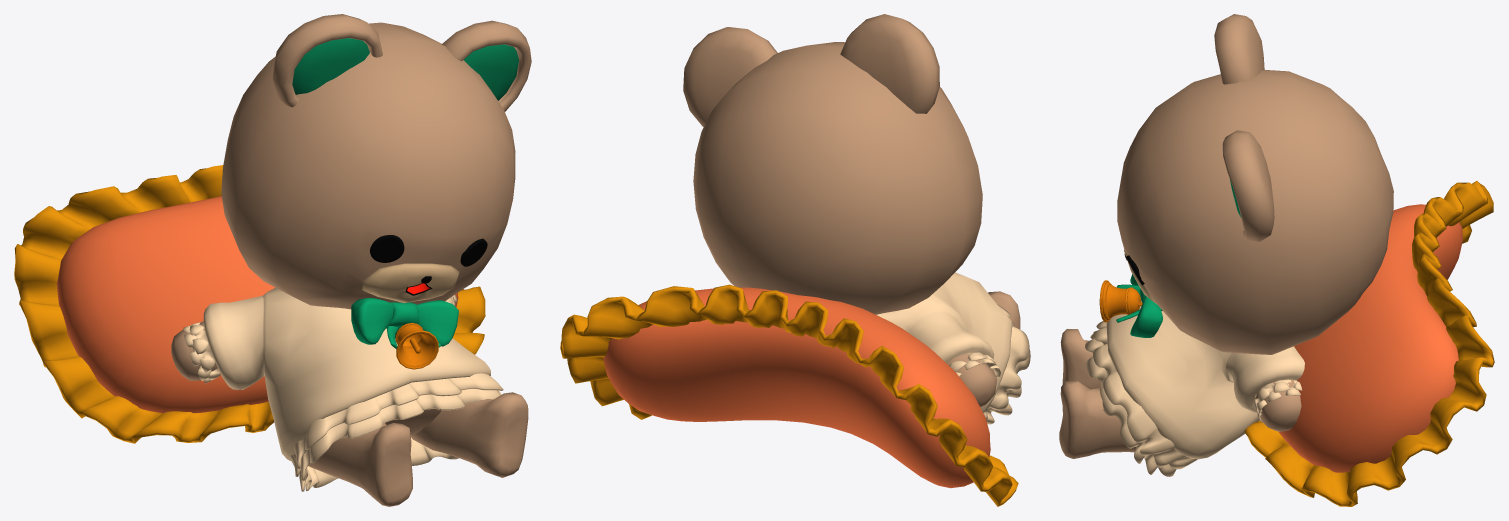
The model's file is NexusBear.fbx.
The picture shows the model from 3 angles, left to right: view 1: azimuth 30°, elevation 25°; view 2: azimuth 150°, elevation 25°; view 3: azimuth 270°, elevation 25°; orthographic projection. The views are drawn at different scales.
Parts seen in each view (by area): view 1: Bear_Good_Ribbon.001; view 2: Bear_Good_Ribbon.001; view 3: Bear_Good_Ribbon.001.
Boxes of the visible parts, x1,y1,x2,y2 form: Bear_Good_Ribbon.001: (14, 14, 531, 506); Bear_Good_Ribbon.001: (560, 14, 1030, 506); Bear_Good_Ribbon.001: (1059, 14, 1494, 506).
Size of the model in its own units: 1022 by 1002 by 947.
